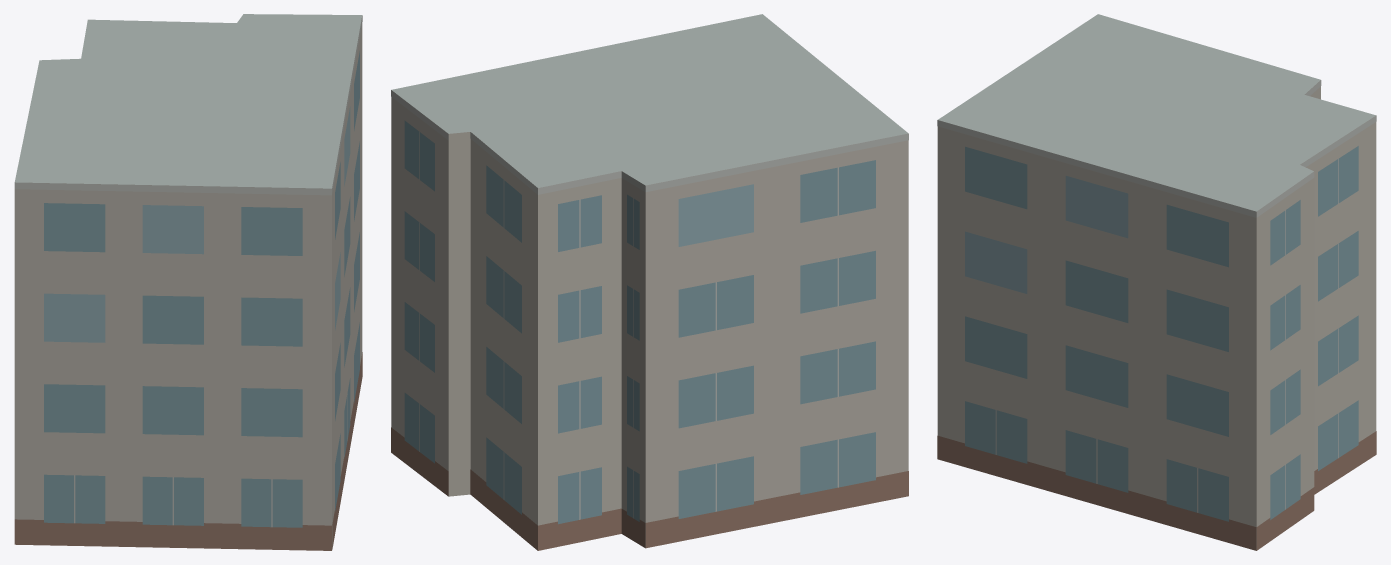
File: survey-upis-32614276.glb
The picture shows the model from 3 angles, left to right: view 1: azimuth 30°, elevation 25°; view 2: azimuth 150°, elevation 25°; view 3: azimuth 270°, elevation 25°; orthographic projection. The views are drawn at different scales.
Visible parts, largest first — view 1: survey-upis-32614276.tmp; view 2: survey-upis-32614276.tmp; view 3: survey-upis-32614276.tmp.
Part boxes in pixels (x1=…): survey-upis-32614276.tmp: x1=14, y1=14, x2=362, y2=550; survey-upis-32614276.tmp: x1=391, y1=14, x2=908, y2=550; survey-upis-32614276.tmp: x1=937, y1=14, x2=1376, y2=550.
Size of the model in its own units: 16.37 by 13.1 by 15.37.
